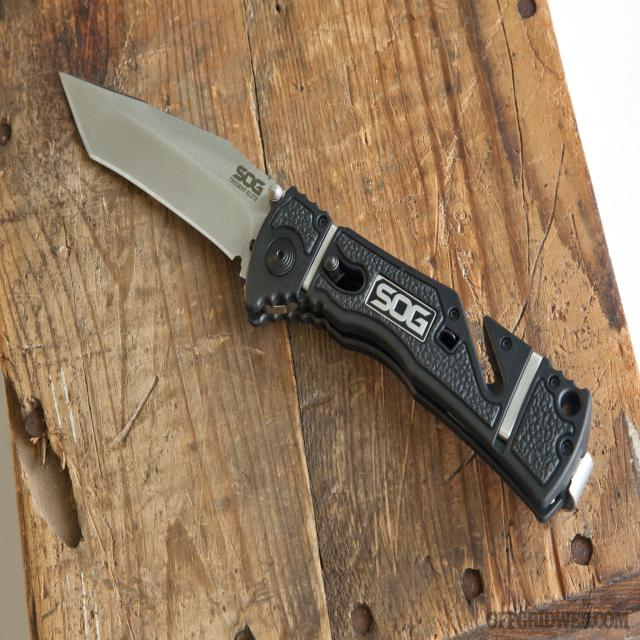knife: (58, 69, 600, 539)
